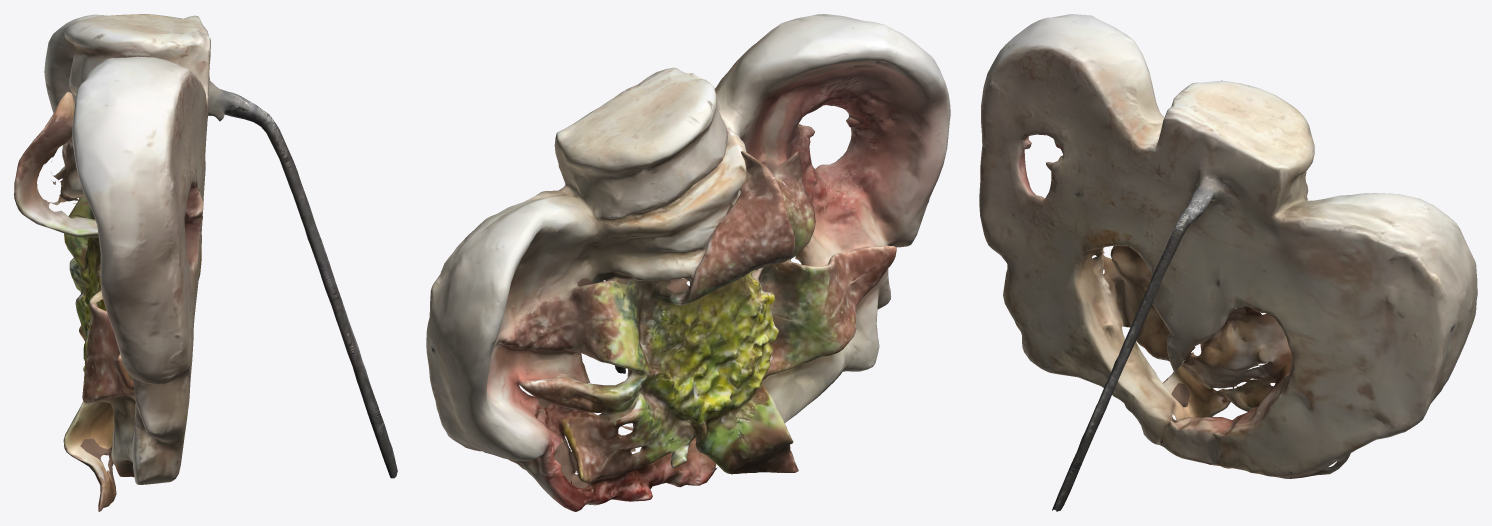
3 renders of one model, left to right at view 1: azimuth 30°, elevation 25°; view 2: azimuth 150°, elevation 25°; view 3: azimuth 270°, elevation 25°, orthographic. The views are drawn at different scales.
Bounding box in the file's own units: 1.5 × 1.99 × 2.28.
Materials: 7 (7 with a texture image).
